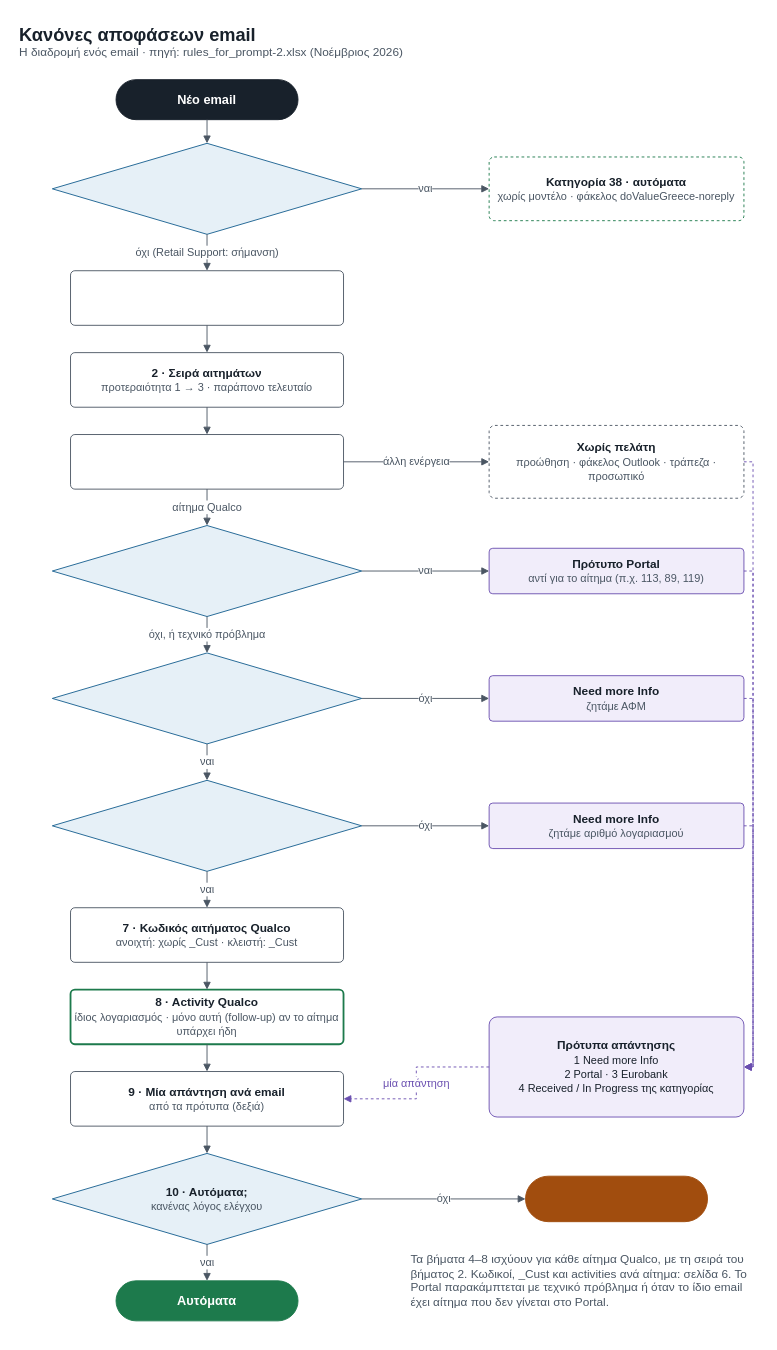
Image size: 777x1350. Some labels were removed from this diagram. The box of each missing label's shape, as (x1, y1, x2, y2) in pixels:
0 · Εσωτερικός αποστολέας; @dovaluegreece.gr, όχι Retail Support: (51, 142, 362, 234)
1 · Ταξινόμηση κύριο αίτημα + λοιπά (από 80% αυτόματα): (70, 270, 344, 325)
3 · Κανόνες κατηγορίας ό,τι λέει το email → ενέργεια: (70, 434, 344, 489)
4 · Portal; αίτημα Portal + πελάτης με Portal: (51, 525, 362, 617)
5 · Ταυτοποίηση; ΑΦΜ ή λογαριασμός στο μητρώο: (51, 652, 362, 744)
6 · Λογαριασμός; από email · τράπεζα/SPV στο κείμενο · αλλιώς ανά SPV: (51, 779, 362, 871)
Προς έλεγχο: (525, 1175, 708, 1222)
